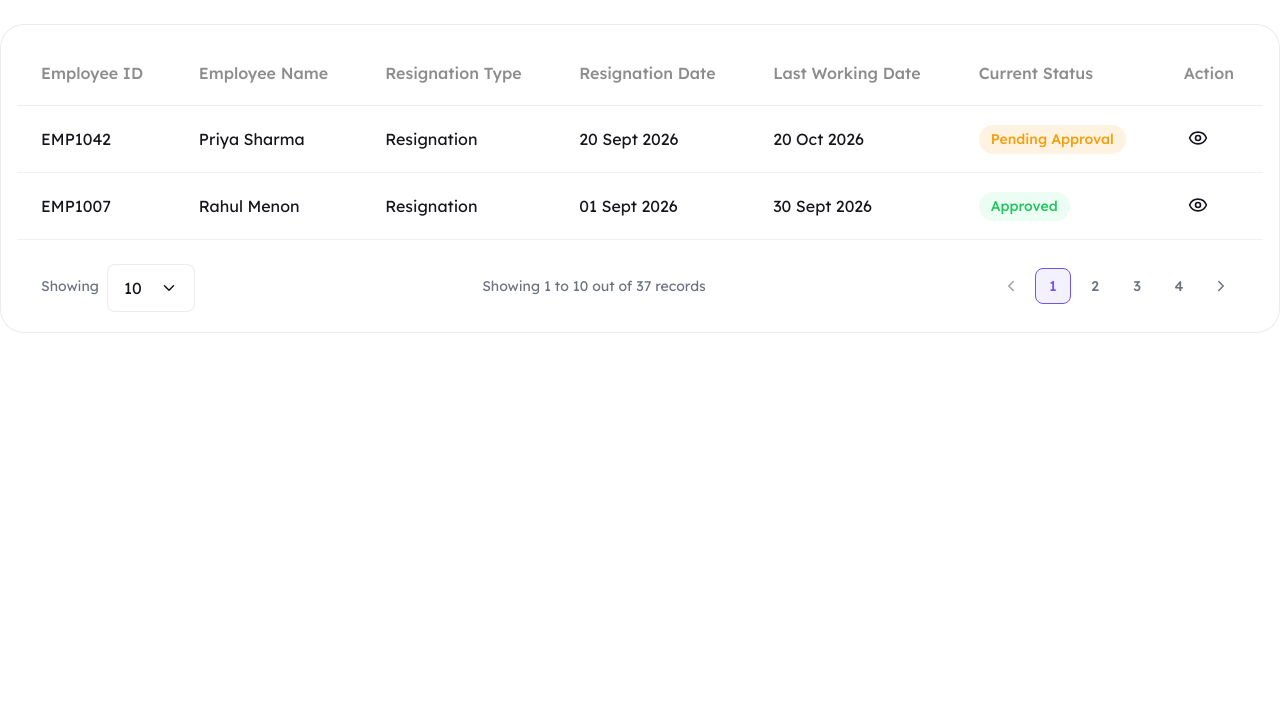
Test: SeparationsDashboard › details drawer › shows the backend's message and a retry when the read fails
Click the button named "View separation details" at (1198, 138), box [1184,124,1212,152]
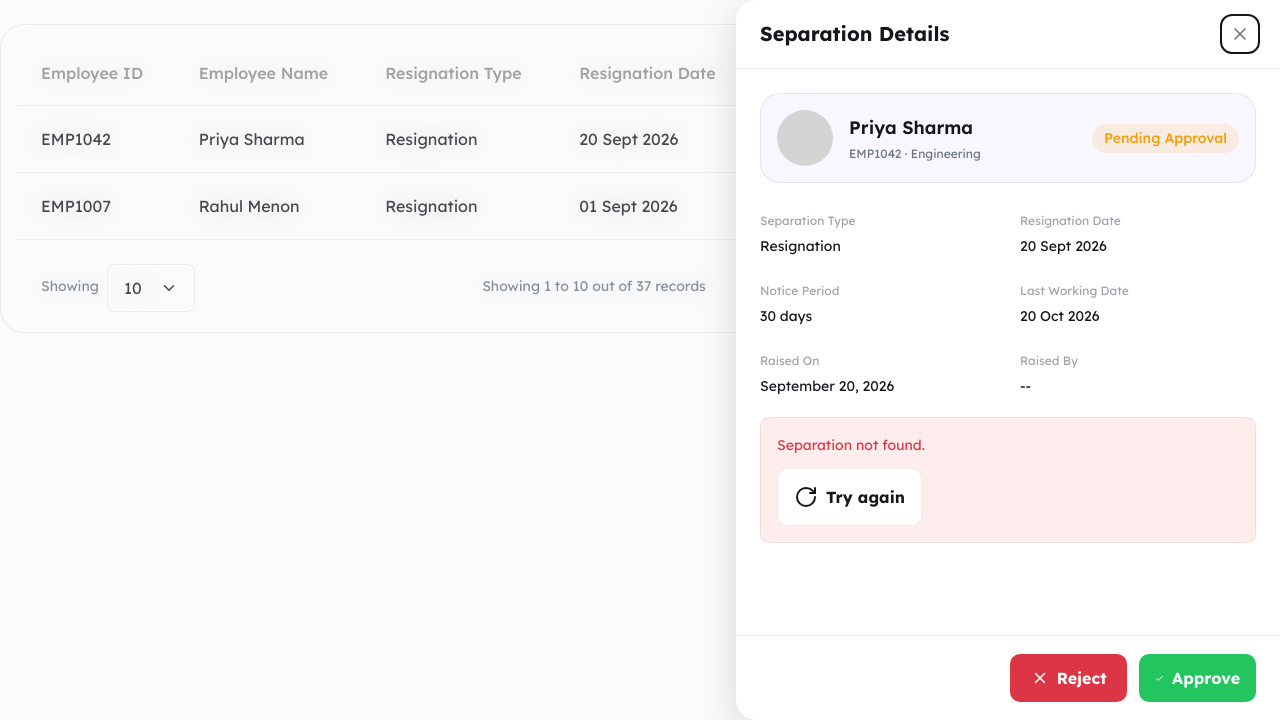
expect the text "Separation not found." is shown: met, box [777,434,925,456]
expect the text "Priya Sharma" is shown: met, box [849,114,981,142]
